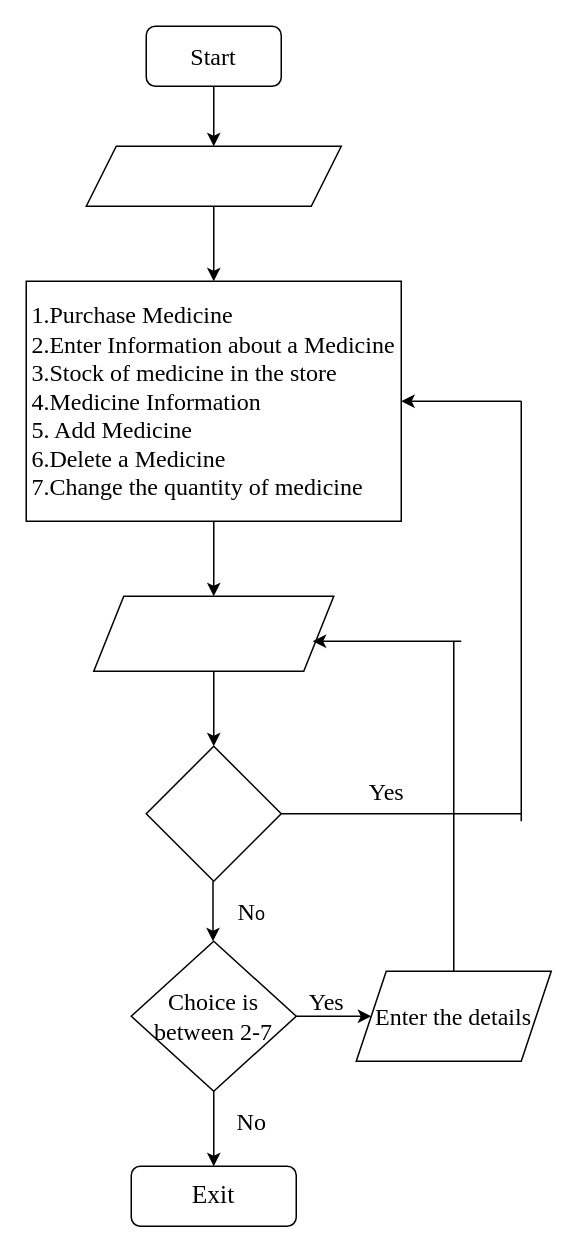
The diagram is 578 pixels wide and 1253 high, and some of its shapes have lost their labels. The shapes that lost their labels are listed below. From the top down, each one's box as (x1, y1, x2, y2) in pixels, then its label:
(85, 145, 341, 206): Enter into the system
(92, 595, 334, 671): Enter the Choice
(145, 745, 281, 881): Choice is 1
